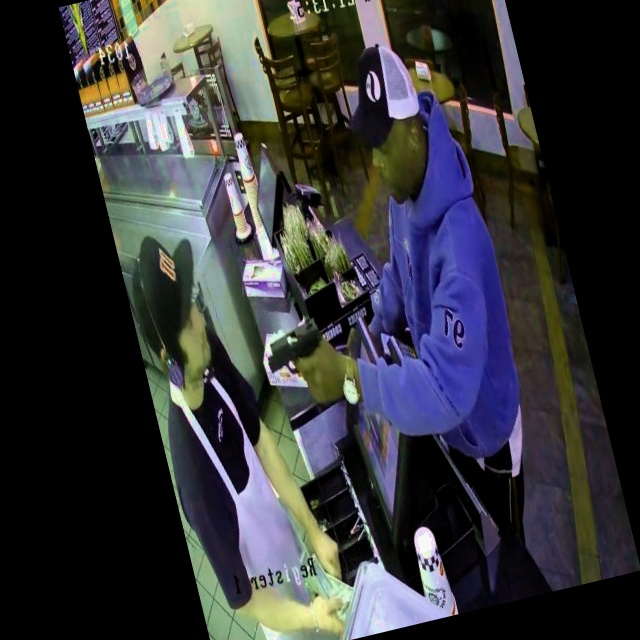gun: (249, 288, 346, 400)
